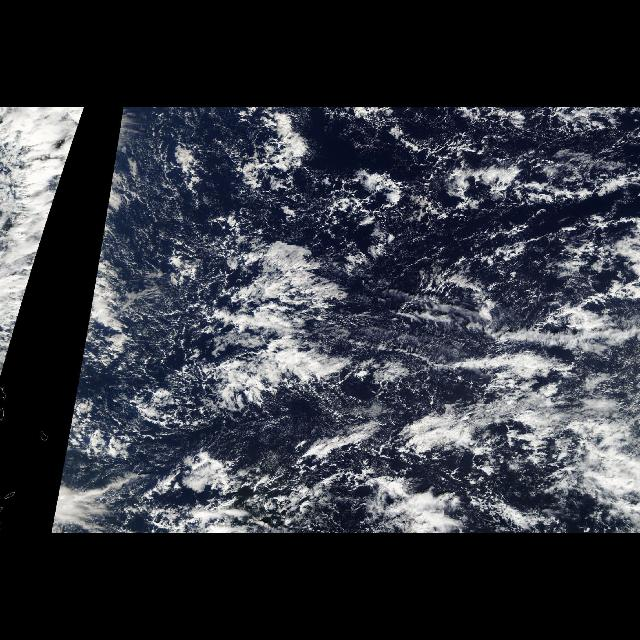Fish: (133, 107, 639, 533)
Gravel: (204, 124, 618, 266)
